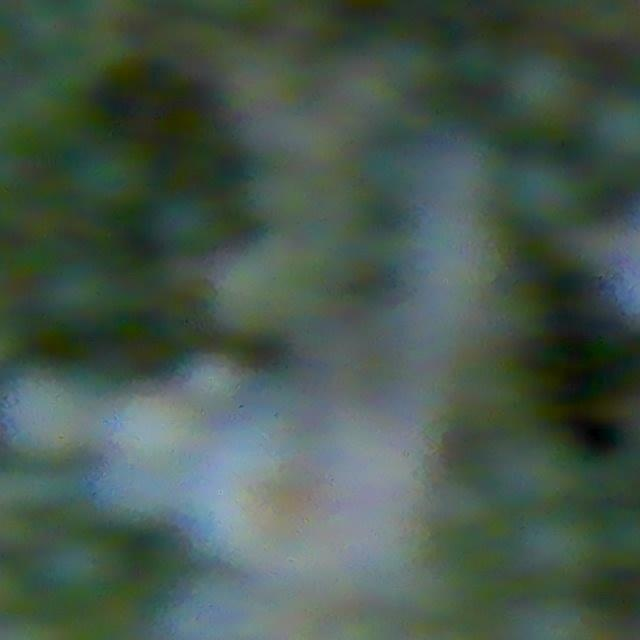SeaGrape: (1, 369, 90, 460), (499, 47, 582, 133), (516, 508, 605, 588), (503, 154, 582, 230), (150, 190, 220, 255), (509, 593, 593, 640), (179, 353, 242, 415)
